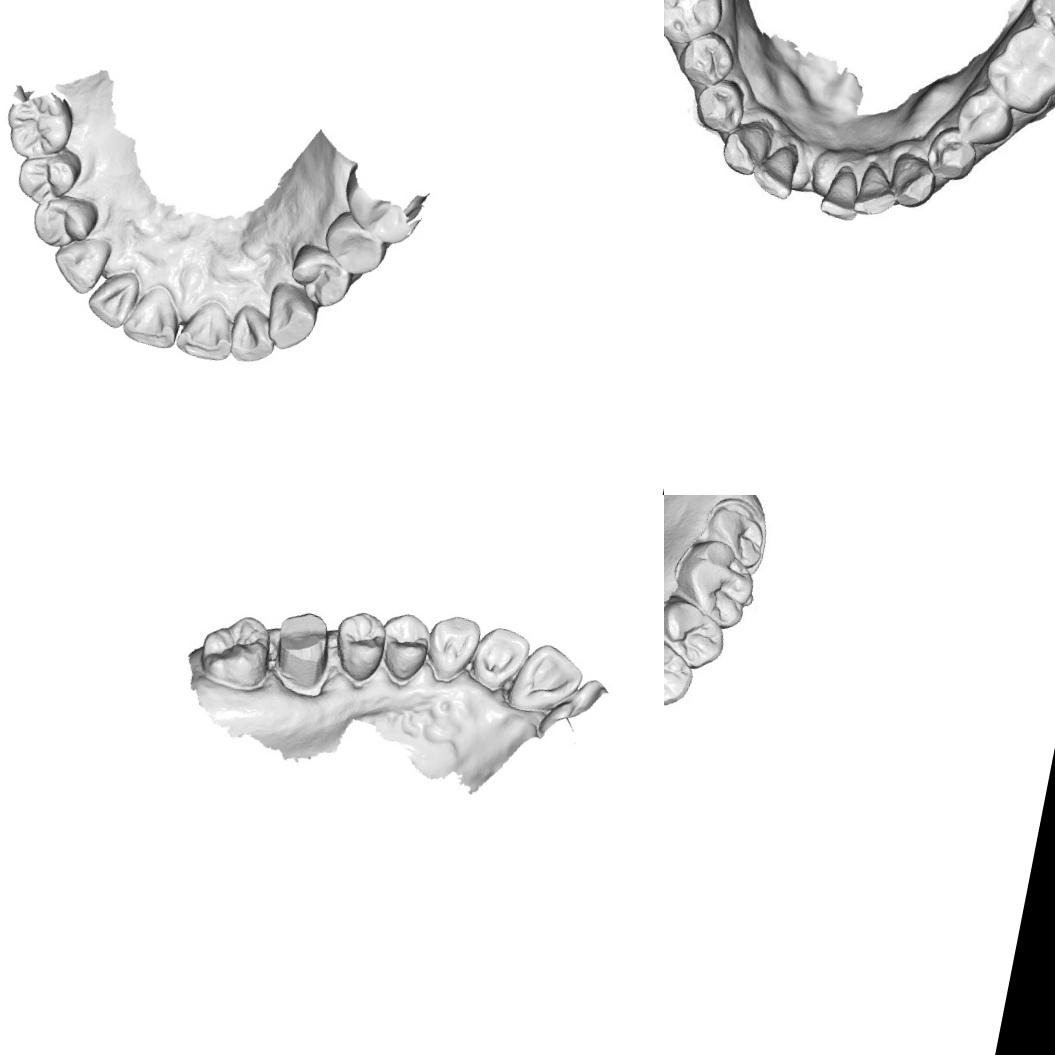canine: (419, 609, 483, 688), (260, 278, 322, 356), (47, 229, 114, 298), (712, 115, 773, 180), (888, 152, 941, 212)
crown: (264, 604, 340, 700)
incisor: (502, 638, 588, 722), (467, 622, 533, 697), (173, 294, 240, 364), (119, 280, 184, 350), (82, 264, 142, 332), (224, 300, 282, 368), (747, 141, 800, 202), (815, 157, 864, 222), (852, 160, 901, 221)
molar: (194, 602, 278, 694), (977, 19, 1055, 118), (677, 545, 758, 627), (0, 80, 78, 165), (702, 496, 770, 569), (664, 0, 727, 46)
premolar: (317, 204, 393, 280), (369, 606, 435, 688), (284, 239, 357, 312), (327, 606, 392, 686), (11, 141, 84, 211), (664, 597, 732, 672), (28, 190, 102, 253), (672, 27, 737, 92), (954, 85, 1016, 148), (688, 72, 746, 135), (924, 125, 979, 184), (664, 635, 697, 705)
